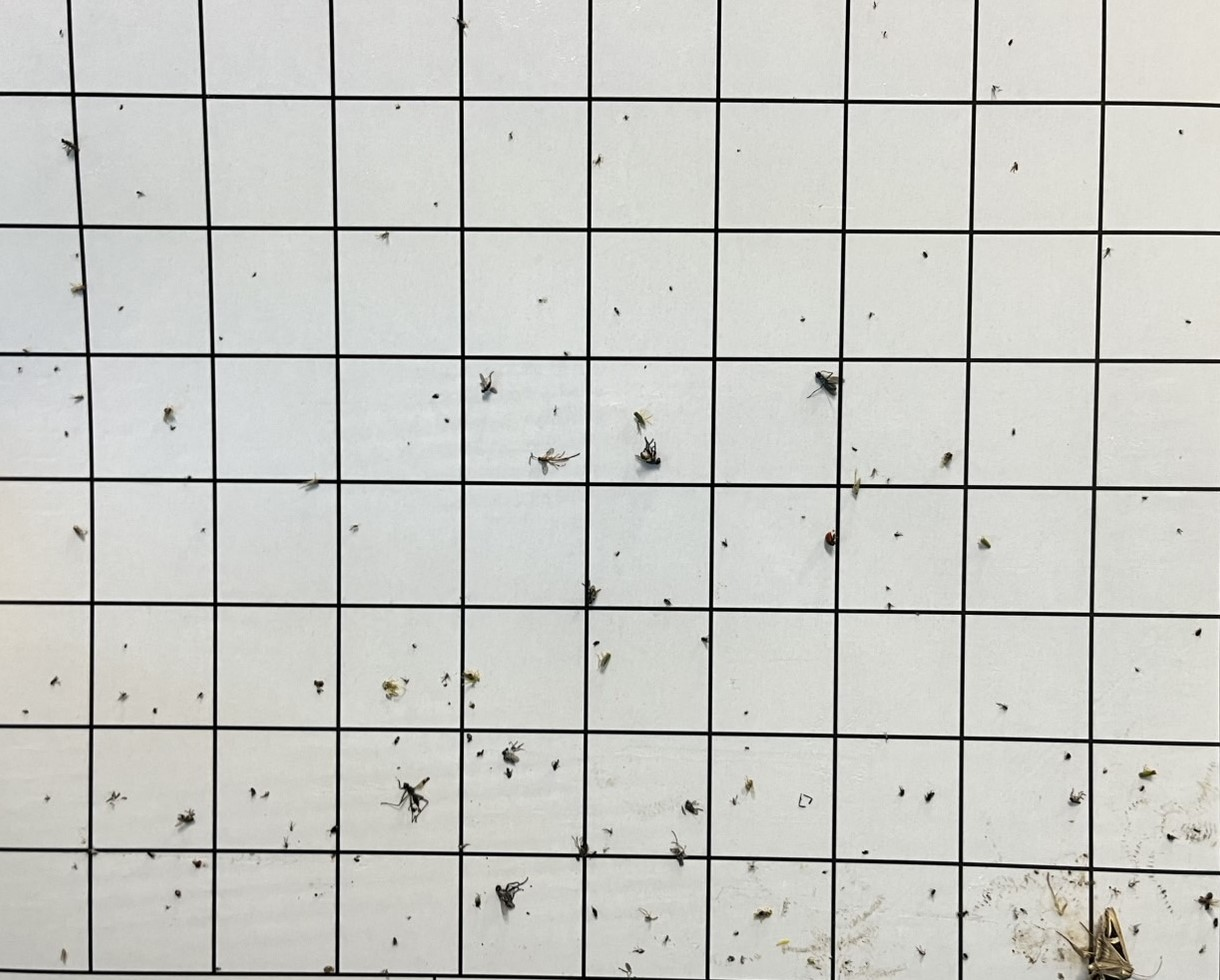fly: (813, 370, 842, 397)
test: (1056, 908, 1135, 977), (398, 776, 431, 821), (531, 447, 580, 473), (639, 436, 663, 471), (669, 828, 688, 864), (495, 884, 517, 910), (581, 579, 601, 604), (382, 678, 404, 698), (479, 371, 497, 394), (175, 807, 195, 827), (298, 473, 320, 491), (463, 668, 481, 687), (682, 798, 702, 815), (571, 832, 585, 856), (61, 138, 78, 157), (638, 907, 659, 922), (633, 410, 649, 428), (598, 650, 611, 671), (1069, 787, 1085, 804), (502, 749, 520, 764), (454, 15, 470, 31), (1197, 892, 1214, 907), (1139, 765, 1157, 779), (73, 524, 88, 540), (753, 907, 773, 919), (617, 961, 633, 976), (163, 405, 176, 423), (852, 470, 861, 495), (743, 776, 755, 794), (798, 792, 812, 807), (825, 529, 837, 546), (941, 451, 953, 467), (106, 790, 120, 803), (313, 678, 325, 693), (70, 282, 85, 294), (781, 897, 791, 915), (978, 536, 991, 548), (1109, 884, 1121, 897), (991, 84, 1002, 98), (78, 826, 87, 842), (924, 790, 935, 802), (807, 957, 820, 967), (916, 944, 926, 957), (1132, 922, 1142, 935), (441, 672, 451, 685), (1013, 905, 1022, 919), (50, 675, 61, 686), (995, 701, 1007, 711), (60, 947, 67, 964), (776, 938, 790, 946), (378, 231, 389, 241), (1192, 824, 1203, 834), (192, 858, 203, 868), (593, 154, 602, 166), (662, 933, 671, 945), (1103, 247, 1112, 259), (551, 758, 560, 770), (458, 841, 470, 850), (474, 893, 481, 908), (71, 394, 84, 402), (329, 823, 337, 836), (118, 690, 128, 700), (1167, 832, 1178, 841), (957, 908, 968, 917), (324, 964, 335, 973), (591, 905, 598, 919), (701, 635, 709, 647), (504, 766, 512, 778), (283, 835, 290, 848), (632, 946, 645, 953), (349, 523, 359, 532), (1128, 878, 1138, 887), (1010, 162, 1018, 173), (146, 849, 155, 858), (464, 734, 473, 743), (603, 827, 613, 835), (748, 861, 756, 871), (730, 795, 738, 805), (249, 786, 256, 797), (898, 785, 905, 796), (929, 887, 936, 898), (261, 790, 270, 798), (380, 968, 389, 976), (476, 748, 484, 757), (1064, 750, 1072, 759), (1194, 627, 1202, 636), (738, 956, 747, 964), (1138, 785, 1147, 793), (186, 474, 194, 483), (1199, 943, 1206, 953), (393, 735, 400, 745), (593, 640, 603, 647), (289, 820, 295, 831), (401, 677, 409, 685), (136, 190, 145, 197), (1101, 769, 1110, 776), (871, 467, 877, 477), (538, 297, 548, 303), (614, 307, 621, 315), (174, 889, 181, 897), (721, 538, 728, 546), (353, 855, 361, 862), (90, 847, 98, 854), (664, 598, 672, 605), (821, 869, 829, 876), (508, 131, 514, 140), (22, 348, 31, 354), (894, 531, 903, 537), (213, 965, 222, 971), (553, 405, 558, 415), (392, 935, 397, 945), (1177, 527, 1184, 534), (44, 794, 51, 801), (469, 703, 476, 710), (197, 691, 203, 699), (922, 250, 928, 258), (868, 311, 874, 319), (1183, 318, 1191, 324), (1008, 38, 1014, 46), (962, 951, 968, 959), (563, 350, 571, 356), (734, 930, 740, 938), (169, 426, 177, 432), (882, 30, 887, 39), (872, 1, 877, 10), (59, 29, 64, 38), (887, 602, 893, 609), (1135, 666, 1142, 672), (623, 114, 629, 121), (72, 862, 78, 869), (22, 708, 29, 714), (726, 956, 733, 962), (432, 393, 440, 398), (861, 849, 869, 854), (643, 363, 648, 371), (18, 367, 24, 373), (54, 366, 60, 372), (118, 305, 124, 311), (251, 272, 257, 278), (800, 316, 806, 322), (411, 643, 417, 649), (851, 446, 857, 452), (885, 584, 891, 590), (614, 550, 620, 556), (886, 479, 892, 485), (64, 430, 69, 437), (1141, 495, 1148, 500), (1217, 917, 1220, 928), (1012, 427, 1016, 435), (743, 745, 751, 749), (123, 643, 128, 649), (200, 527, 206, 532), (395, 104, 401, 109), (1179, 129, 1184, 135), (75, 252, 80, 258), (434, 201, 439, 207), (119, 104, 124, 110), (152, 707, 157, 713), (444, 417, 449, 423), (743, 710, 748, 715), (218, 336, 223, 341), (669, 285, 673, 291), (801, 515, 805, 519)
